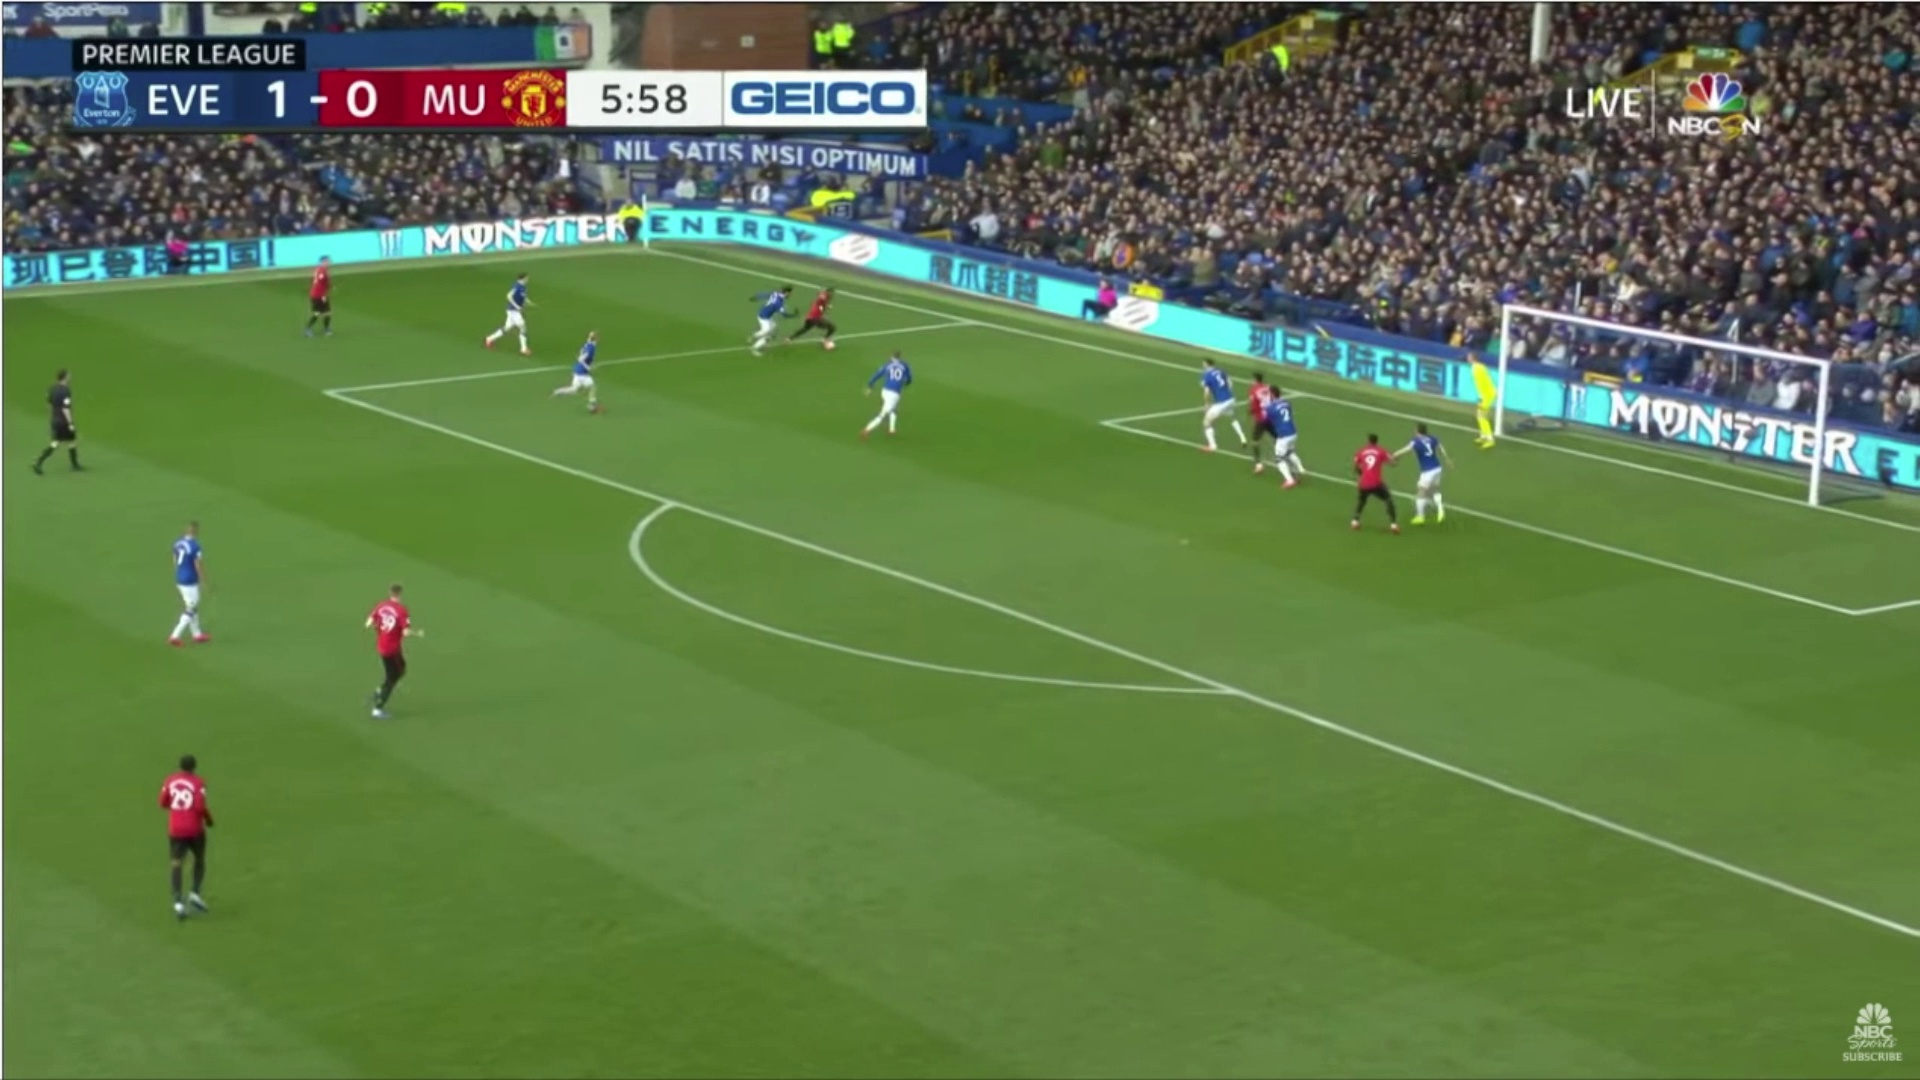ball: (814, 333, 843, 354)
player: (129, 725, 239, 929), (343, 567, 433, 735), (150, 498, 233, 650), (1391, 419, 1477, 540), (1335, 406, 1402, 535), (1179, 338, 1247, 463), (858, 342, 935, 452), (1447, 340, 1516, 454), (477, 254, 545, 367), (550, 308, 618, 417), (1231, 338, 1279, 479), (1260, 373, 1314, 496), (797, 273, 852, 363), (741, 265, 791, 362), (300, 250, 347, 340)
